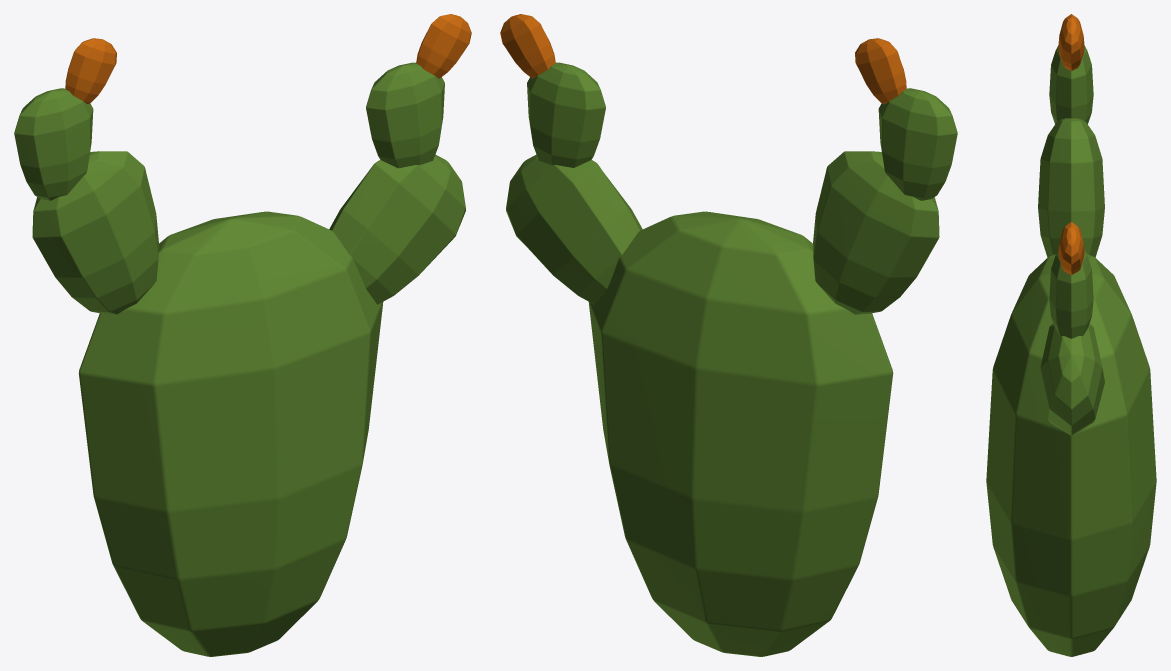
The model's file is CactusWithFruit.fbx.
3 renders of one model, left to right at view 1: azimuth 30°, elevation 25°; view 2: azimuth 150°, elevation 25°; view 3: azimuth 270°, elevation 25°, orthographic. The views are drawn at different scales.
Visible parts, largest first — view 1: pSphere1, pSphere2, pSphere3, pSphere4, pSphere5, CactusFruit2, CactusFruit1; view 2: pSphere1, pSphere2, pSphere3, pSphere4, pSphere5, CactusFruit2, CactusFruit1; view 3: pSphere1, pSphere2, pSphere3, pSphere5, pSphere4, CactusFruit2, CactusFruit1.
Boxes of the visible parts, x1=… form: pSphere1: x1=78, y1=211, x2=383, y2=656; pSphere2: x1=32, y1=151, x2=158, y2=314; pSphere3: x1=329, y1=154, x2=465, y2=304; pSphere4: x1=14, y1=88, x2=93, y2=200; pSphere5: x1=366, y1=62, x2=444, y2=168; CactusFruit2: x1=65, y1=38, x2=116, y2=103; CactusFruit1: x1=416, y1=14, x2=471, y2=78; pSphere1: x1=588, y1=211, x2=893, y2=656; pSphere2: x1=813, y1=151, x2=939, y2=314; pSphere3: x1=506, y1=154, x2=642, y2=304; pSphere4: x1=878, y1=88, x2=957, y2=200; pSphere5: x1=527, y1=62, x2=605, y2=167; CactusFruit2: x1=855, y1=38, x2=906, y2=104; CactusFruit1: x1=500, y1=14, x2=555, y2=78; pSphere1: x1=986, y1=254, x2=1156, y2=656; pSphere2: x1=1038, y1=118, x2=1104, y2=257; pSphere3: x1=1038, y1=324, x2=1104, y2=435; pSphere5: x1=1049, y1=249, x2=1093, y2=338; pSphere4: x1=1049, y1=45, x2=1093, y2=124; CactusFruit2: x1=1058, y1=14, x2=1084, y2=70; CactusFruit1: x1=1058, y1=222, x2=1084, y2=274.
Size of the model in its own units: 2.51 by 3.4 by 0.919.
